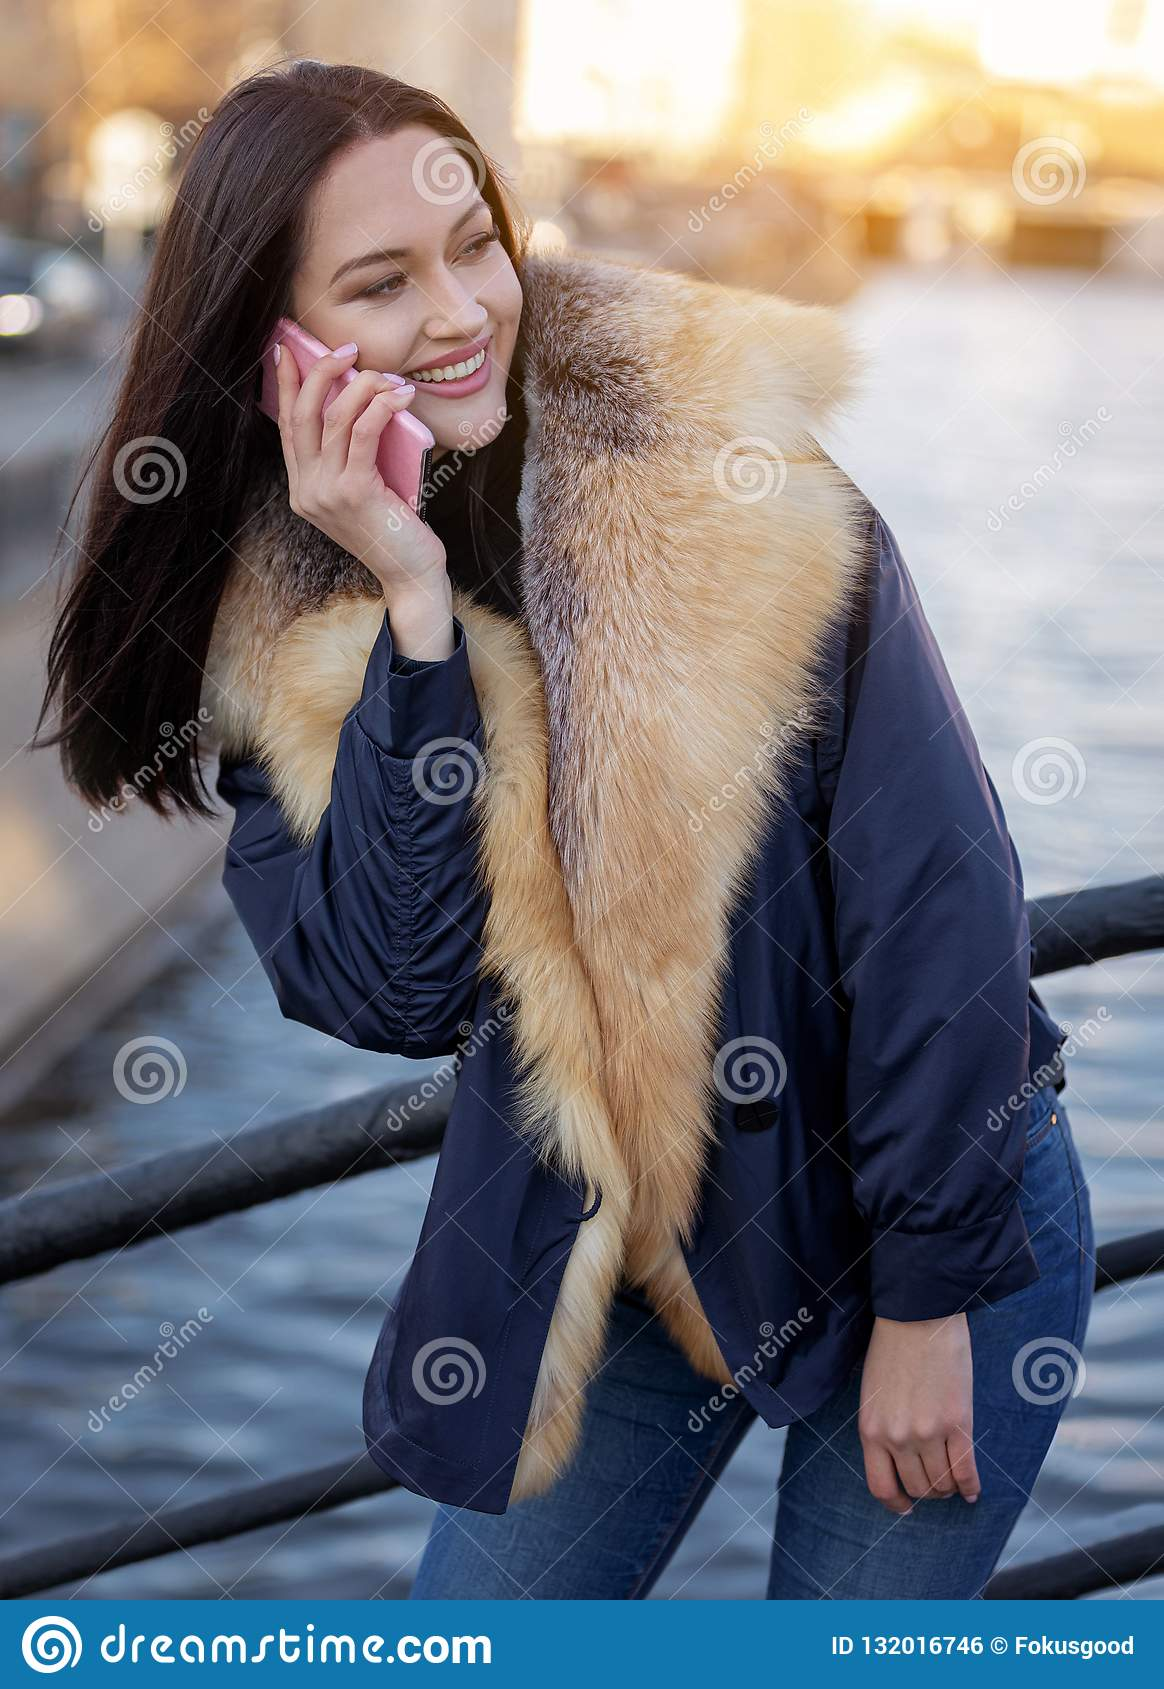phone: (257, 313, 438, 525)
talk: (250, 190, 524, 621)
